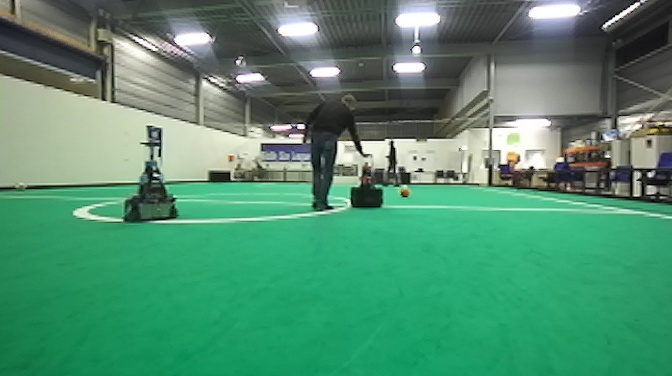ball: (11, 179, 31, 194), (398, 184, 412, 199)
human: (300, 90, 370, 216), (380, 137, 402, 187)
robot: (118, 136, 181, 227), (348, 151, 386, 212)
